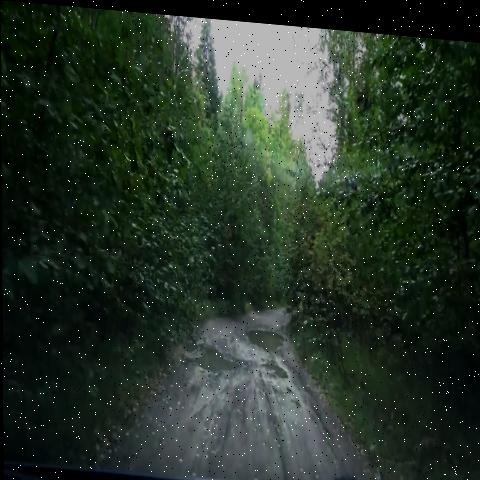pothole: (179, 336, 251, 382), (241, 312, 291, 357), (256, 354, 293, 382)
